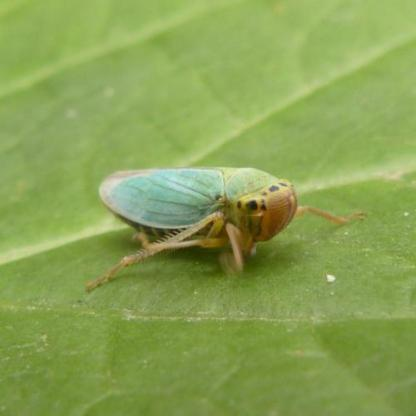Green-Leafhopper: (89, 151, 370, 295)
